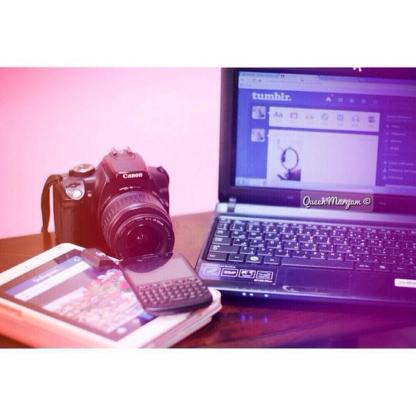board: (186, 63, 407, 320)
